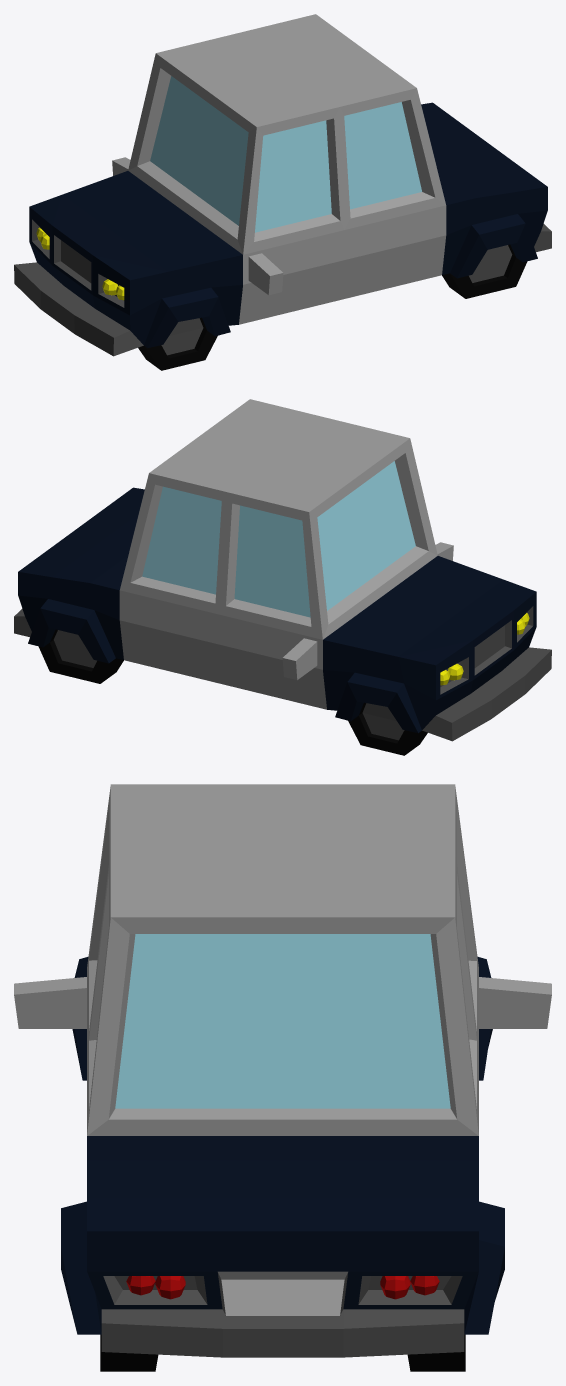
File: PoliceCar.fbx
3 views of the same model, one above another, from view 1: azimuth 30°, elevation 25°; view 2: azimuth 150°, elevation 25°; view 3: azimuth 270°, elevation 25° (orthographic). The views are drawn at different scales.
Visible parts, largest first — view 1: Cube.192; view 2: Cube.192; view 3: Cube.192.
Part boxes in pixels (x1,y1,x2,y2): Cube.192: (14,14,551,370); Cube.192: (14,399,551,755); Cube.192: (14,784,551,1371).
Size of the model in its own units: 280 by 132 by 171.
